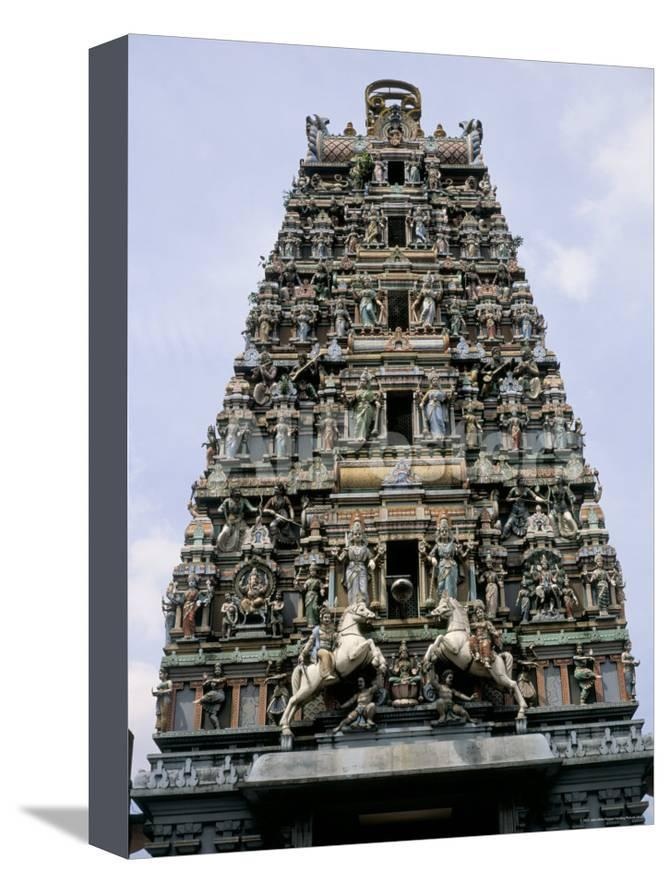Hindu Temple: (213, 77, 629, 786)
